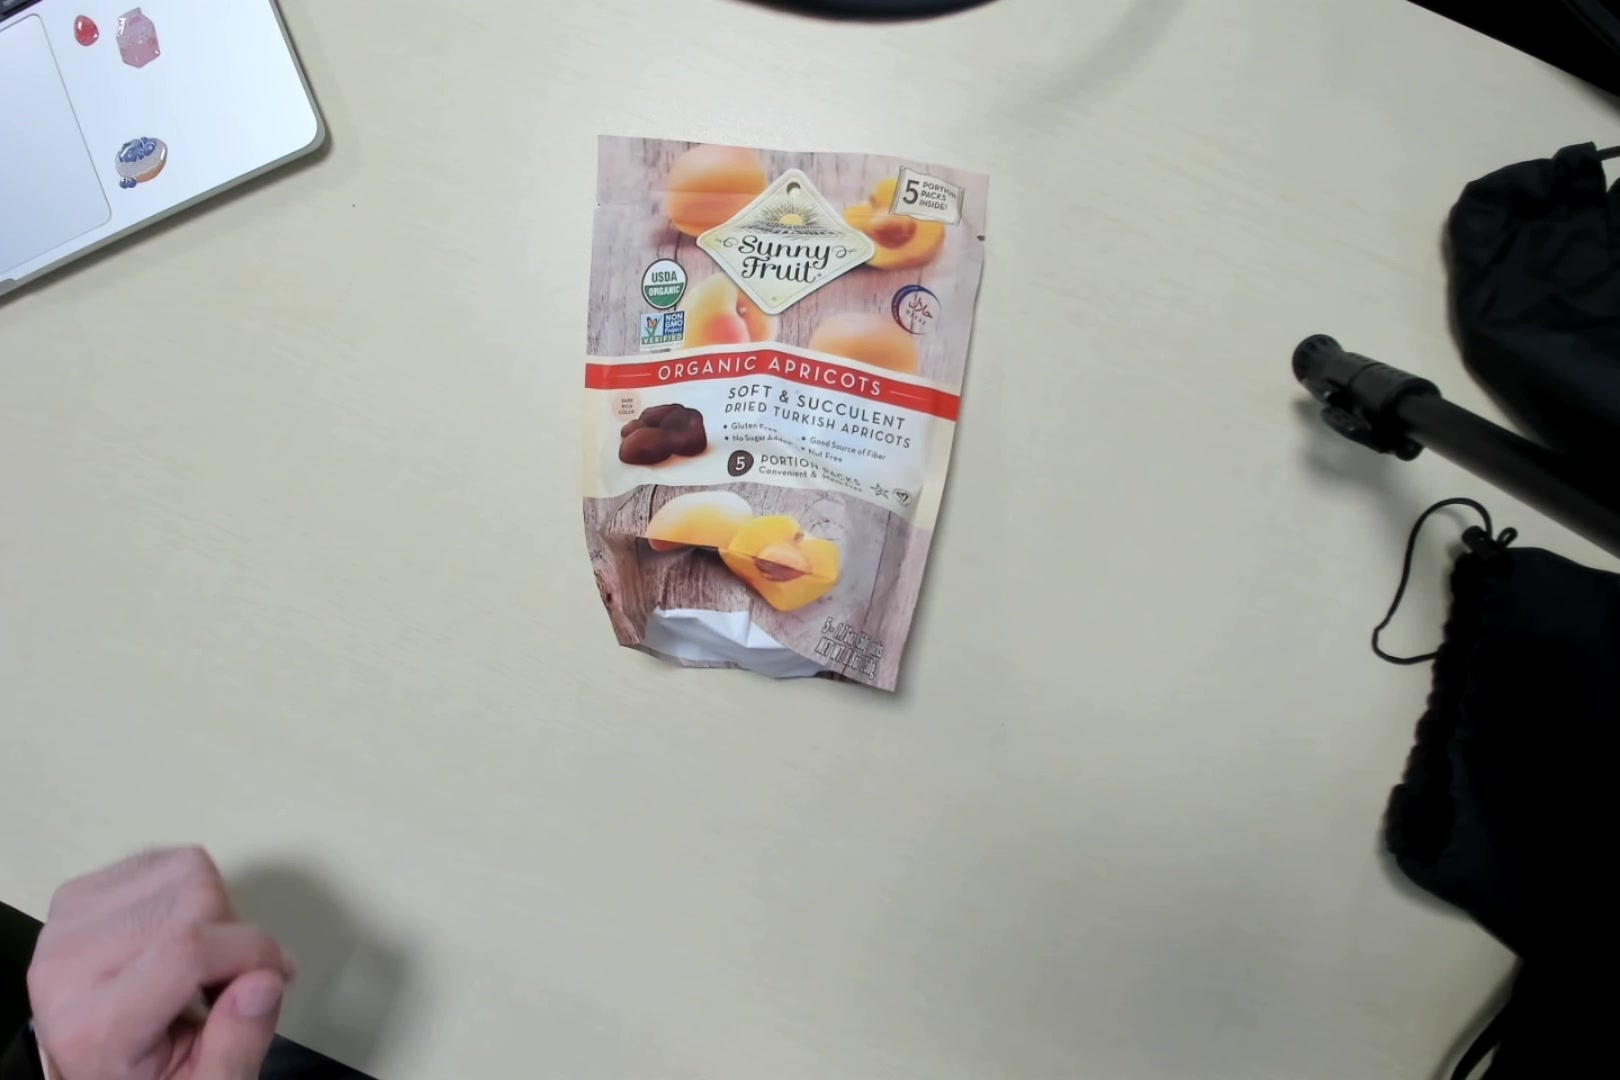DriedFood_0-99g_Halal_NonHealthy: (573, 130, 998, 714)
